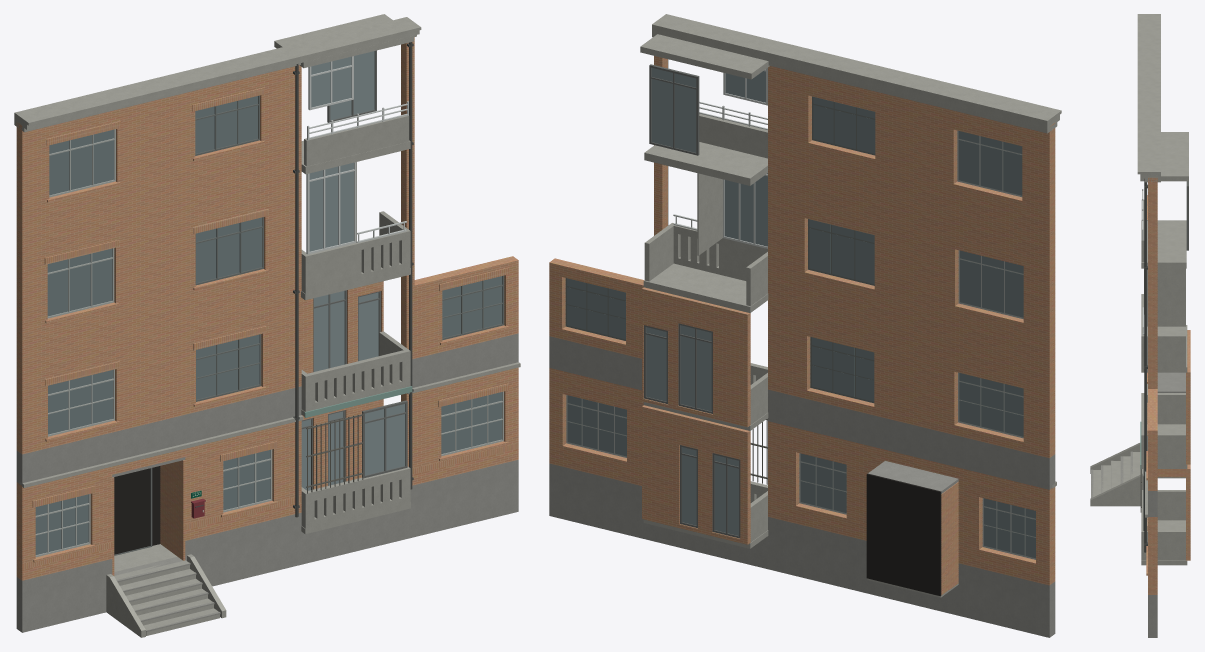
The model's file is full-source.glb.
The picture shows the model from 3 angles, left to right: view 1: azimuth 30°, elevation 25°; view 2: azimuth 150°, elevation 25°; view 3: azimuth 270°, elevation 25°; orthographic projection. The views are drawn at different scales.
Visible parts, largest first — view 1: 淮海中路后排1230号入口与叠层阳台; view 2: 淮海中路后排1230号入口与叠层阳台; view 3: 淮海中路后排1230号入口与叠层阳台.
Part boxes in pixels (x1=…): 淮海中路后排1230号入口与叠层阳台: x1=14, y1=14, x2=520, y2=637; 淮海中路后排1230号入口与叠层阳台: x1=549, y1=14, x2=1061, y2=637; 淮海中路后排1230号入口与叠层阳台: x1=1090, y1=14, x2=1190, y2=637.
Size of the model in its own units: 13.33 by 13.2 by 2.83.
Materials: 17 (4 with a texture image).
